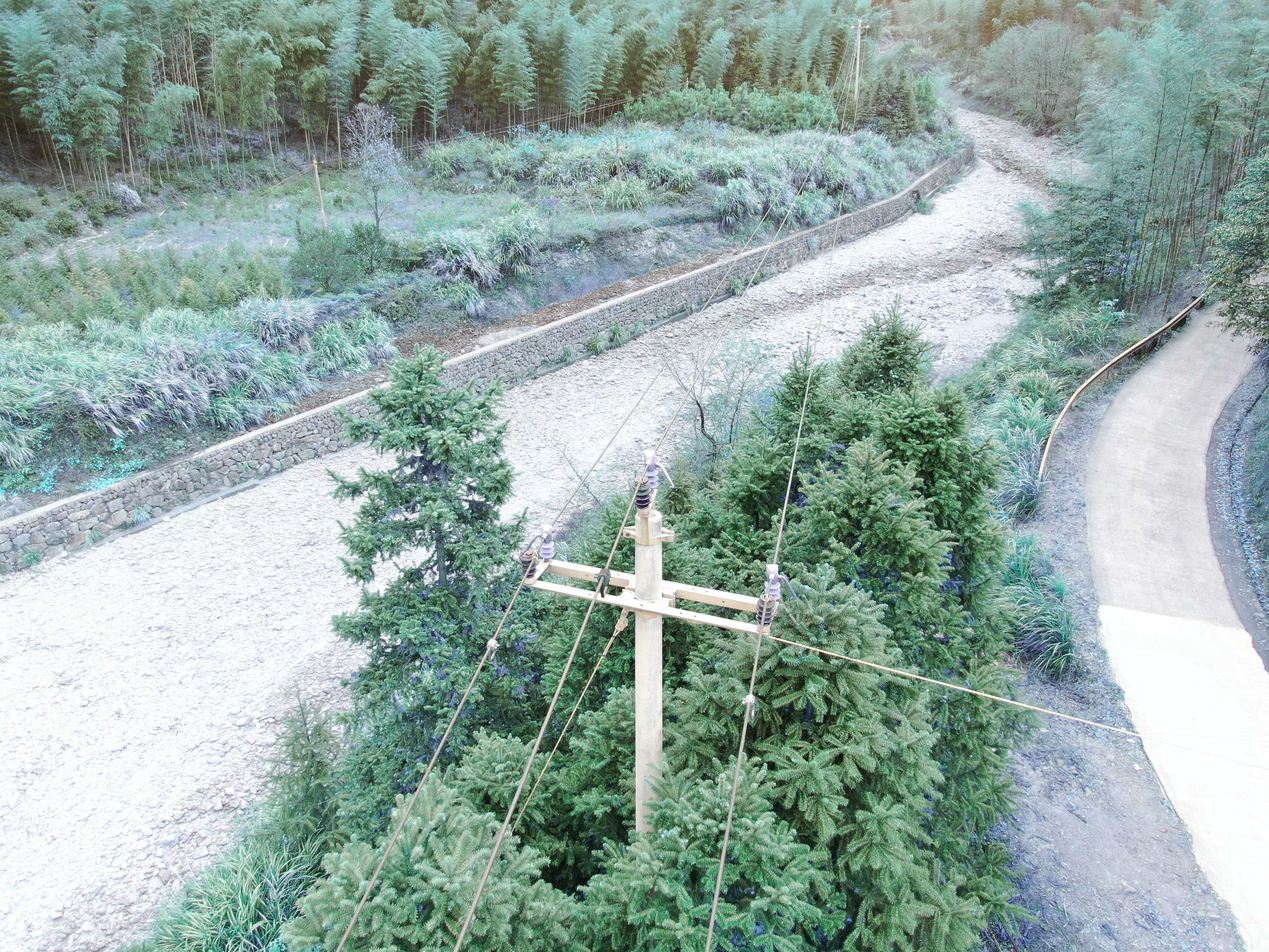severe_soiling_no_discharge_whole: (628, 474, 654, 517)
